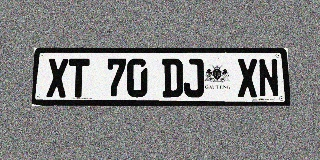0: (127, 58, 147, 97)
7: (105, 58, 126, 97)
D: (162, 59, 183, 97)
J: (183, 59, 204, 97)
N: (258, 59, 279, 97)
T: (68, 58, 89, 97)
X: (46, 58, 68, 97), (237, 59, 258, 97)
